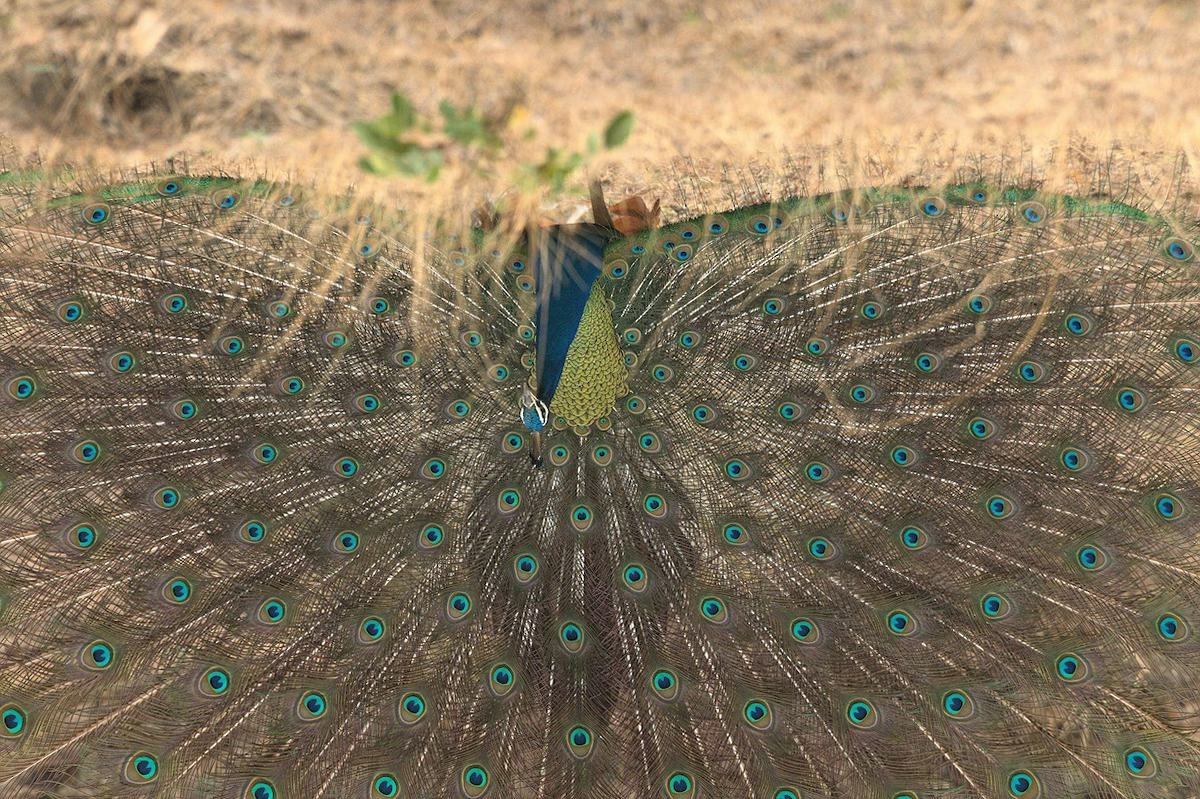peacock: (3, 161, 1200, 799)
